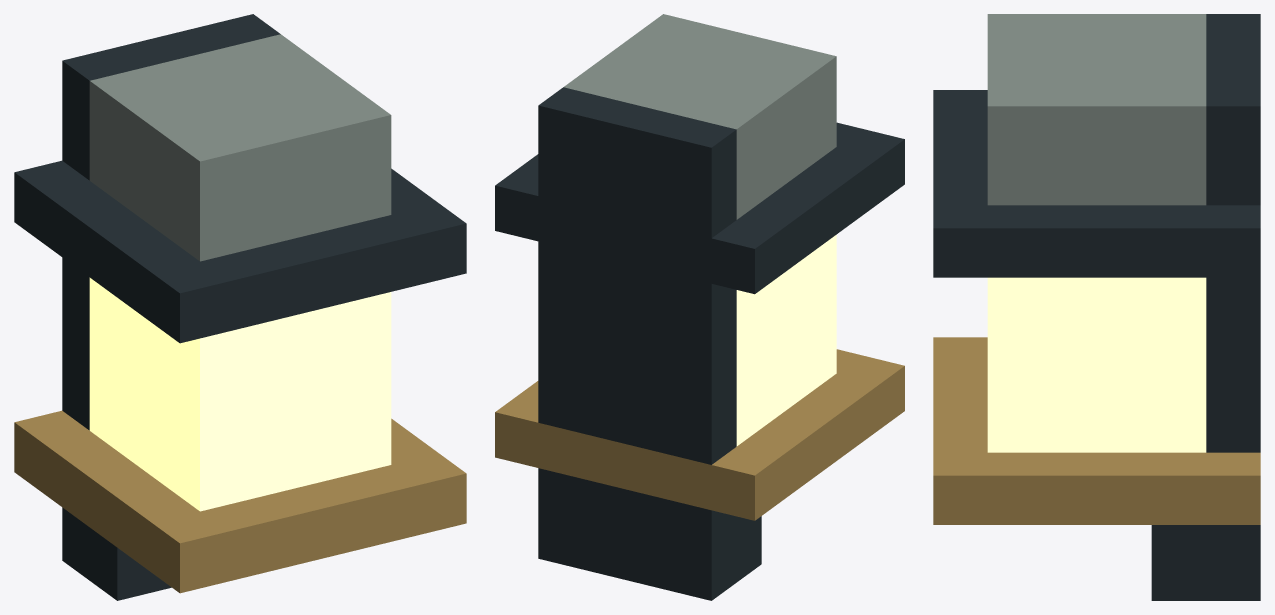
File: IT_LIGHT_01.fbx
3 renders of one model, left to right at view 1: azimuth 30°, elevation 25°; view 2: azimuth 150°, elevation 25°; view 3: azimuth 270°, elevation 25°, orthographic. The views are drawn at different scales.
Visible parts, largest first — view 1: IT_LIGHT_01.body; view 2: IT_LIGHT_01.body; view 3: IT_LIGHT_01.body.
Boxes of the visible parts, x1,y1,x2,y2 form: IT_LIGHT_01.body: [14, 14, 466, 600]; IT_LIGHT_01.body: [495, 14, 904, 600]; IT_LIGHT_01.body: [933, 14, 1260, 600].
Bounding box in the file's own units: 75 × 125 × 75.
